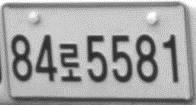1: (162, 33, 179, 83)
4: (34, 33, 58, 81)
5: (86, 34, 108, 82), (111, 34, 133, 82)
8: (134, 33, 159, 82), (10, 33, 33, 81)
로: (59, 43, 82, 82)
